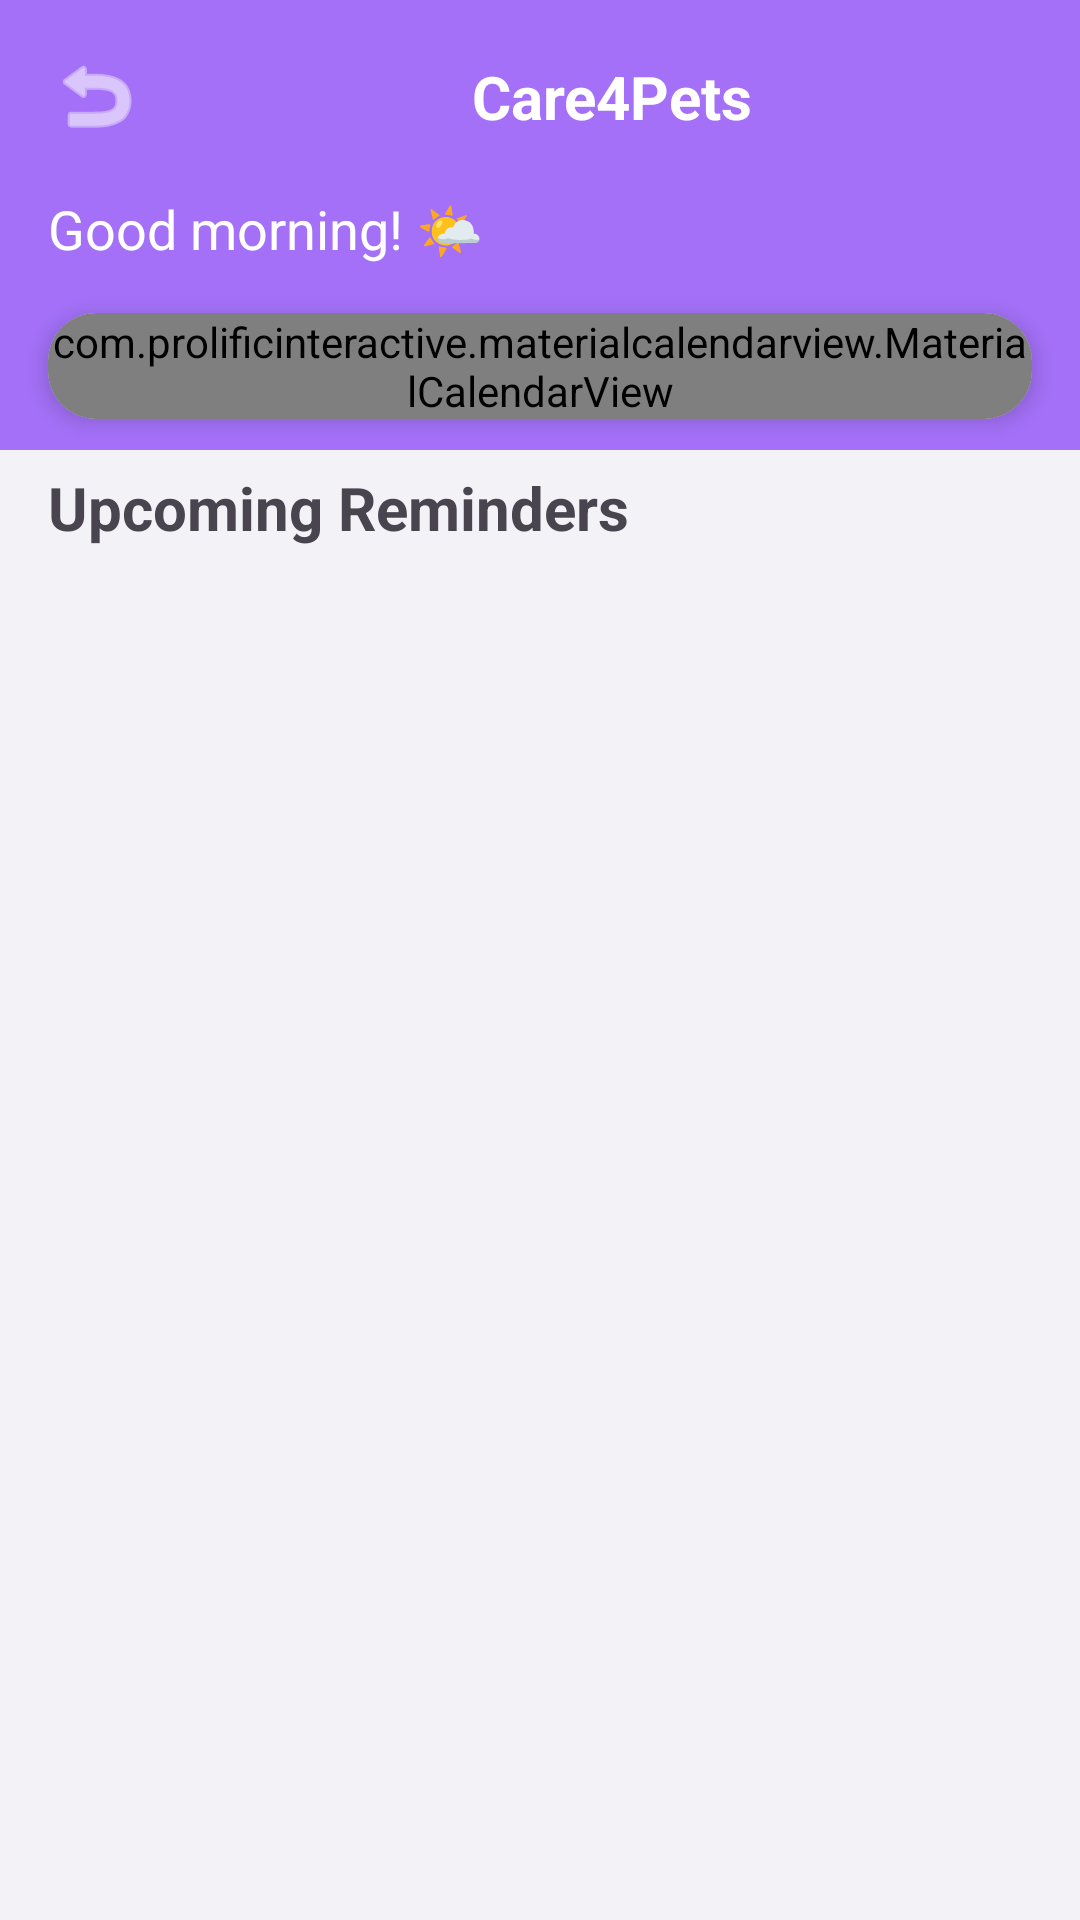

Icon click points for this 1080*1920 phone screenshot, format point (x, y):
revert: point (97, 97)
